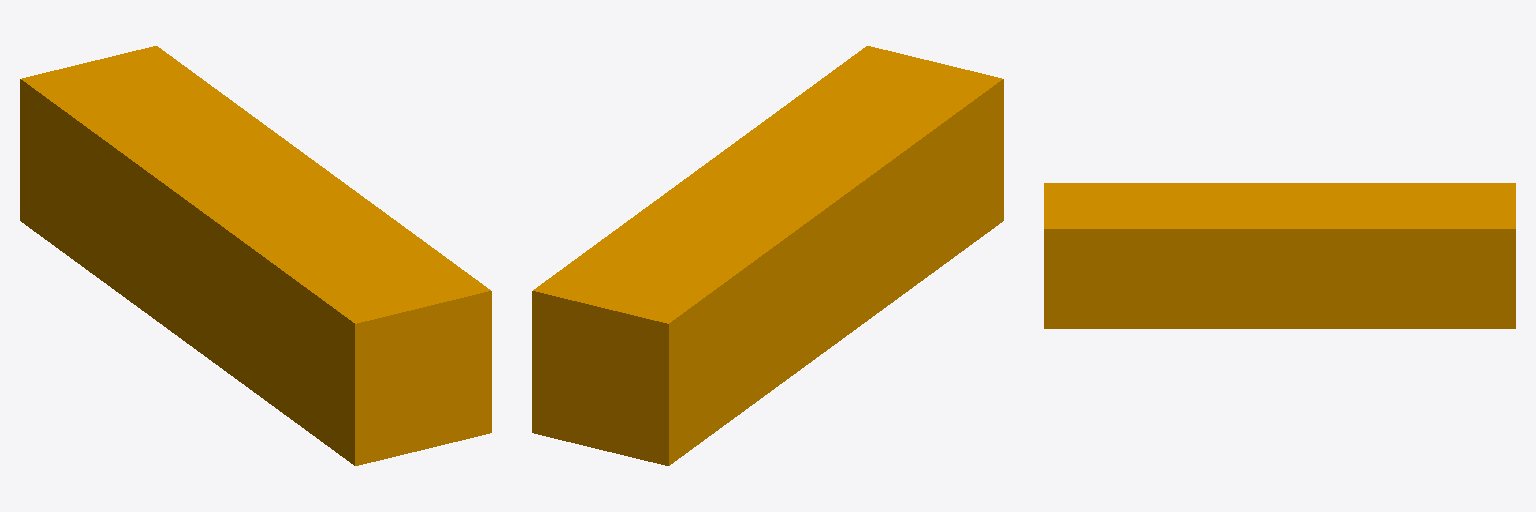
The robot description file, URDF, robot "foxglove_block":
<?xml version="1.0"?>
<robot name="foxglove_block" xmlns:xacro="http://ros.org/wiki/xacro">
  <link name="root_link">
    <visual>
      <origin xyz="0 0 0" rpy="0 0 0"/>
      <geometry>
        <mesh filename="package://fg_gazebo_example/meshes/foxglove_box.dae" scale="0.05 0.05 0.05"/>
      </geometry>
    </visual>
    <collision>
      <origin xyz="0.0 0.0 0.0" rpy="1.57 0 1.57"/>
      <geometry>
        <box size="0.4 0.1 0.1"/>
      </geometry>
    </collision>
    <inertial>
      <mass value="0.564" />
      <origin xyz="0 0 0" />
      <inertia ixx="0.003881243" ixy="0.0" ixz="0.0"
               iyy="0.000498940" iyz="0.0"
               izz="0.003879257" />
    </inertial>
  </link>
</robot>

--- What the picture shows (computed from the rendered views, not written in the file) ---
3 views of the same robot in one strip: view 1: azimuth 30°, elevation 25°; view 2: azimuth 150°, elevation 25°; view 3: azimuth 270°, elevation 25° (orthographic).
Model foxglove_block with 1 links and 0 joints (none), rooted at root_link, posed all joints at 0.
Links seen in each view (by area): view 1: root_link; view 2: root_link; view 3: root_link.
Boxes of the visible links, x1=… form: root_link: x1=20, y1=46, x2=491, y2=465; root_link: x1=532, y1=46, x2=1003, y2=465; root_link: x1=1044, y1=183, x2=1515, y2=328.
Size in the robot's own frame: 0.1 by 0.4262 by 0.1 metres.
1 mesh visuals loaded from 1 distinct referenced files (1 Collada DAE).